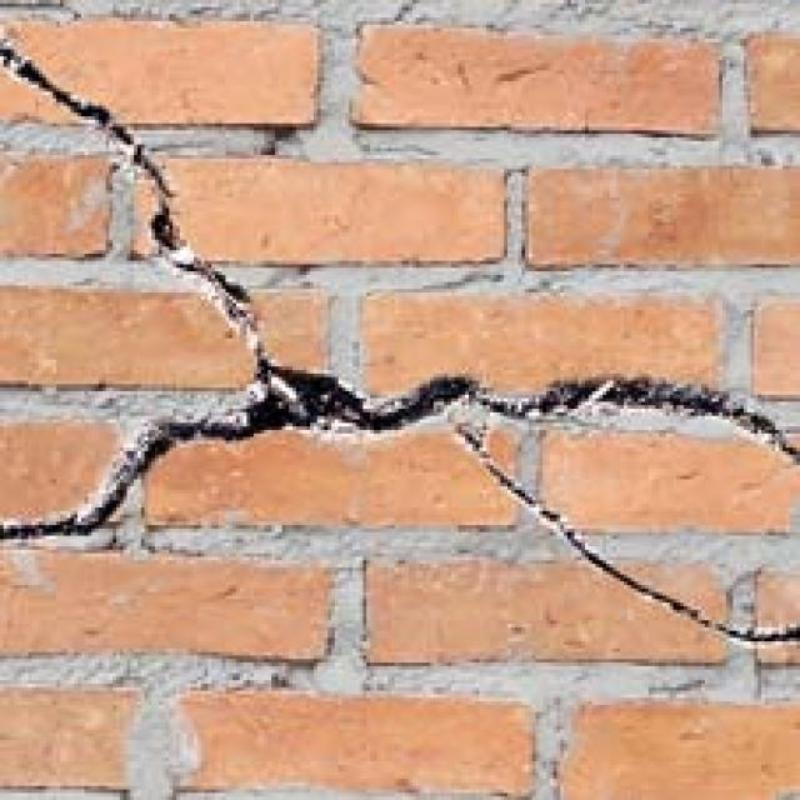pothole: (0, 39, 800, 538), (456, 426, 800, 643)
